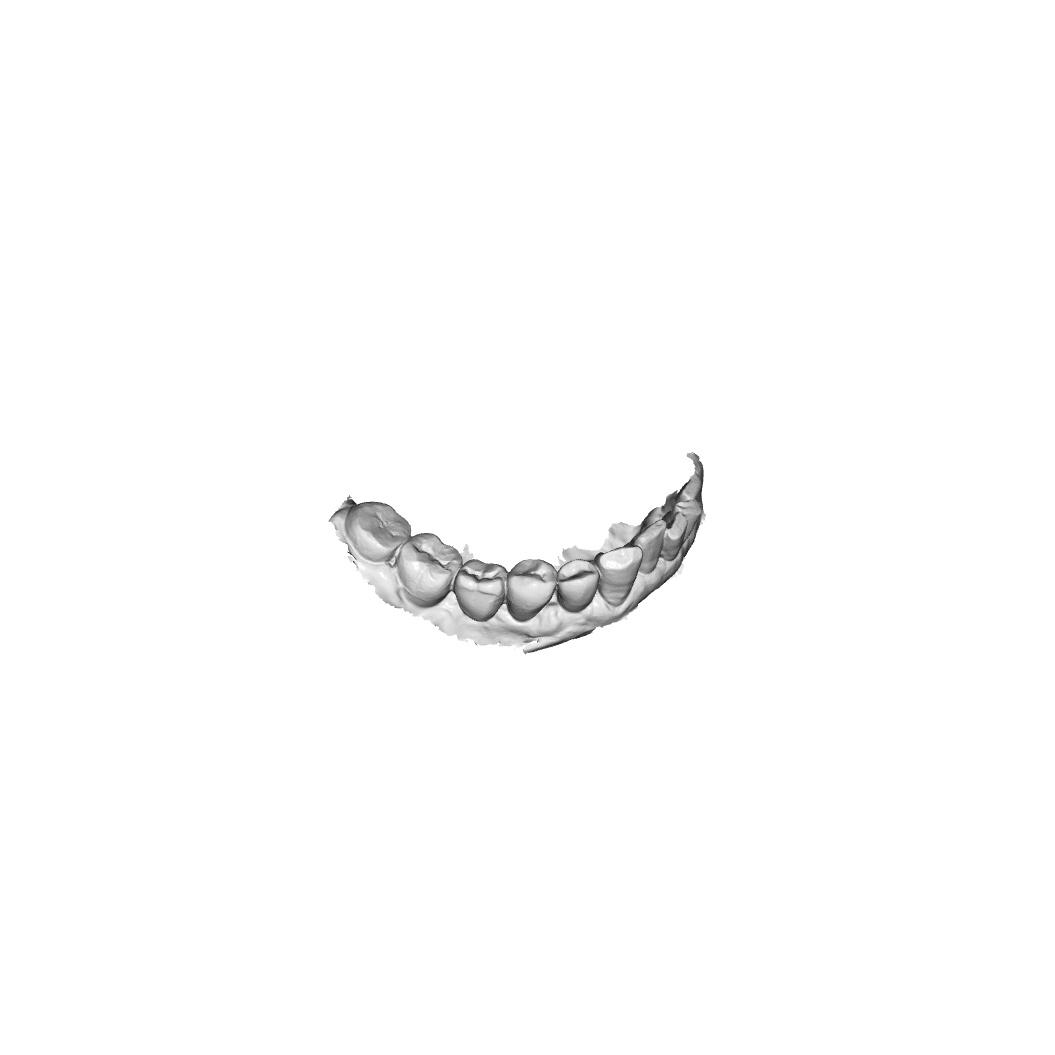canine: (595, 544, 644, 606)
incisor: (629, 518, 668, 575), (661, 511, 689, 562), (672, 499, 706, 527)
molar: (394, 532, 464, 610), (344, 500, 412, 565), (453, 559, 508, 623)
premolar: (506, 558, 558, 623), (554, 554, 596, 613)
